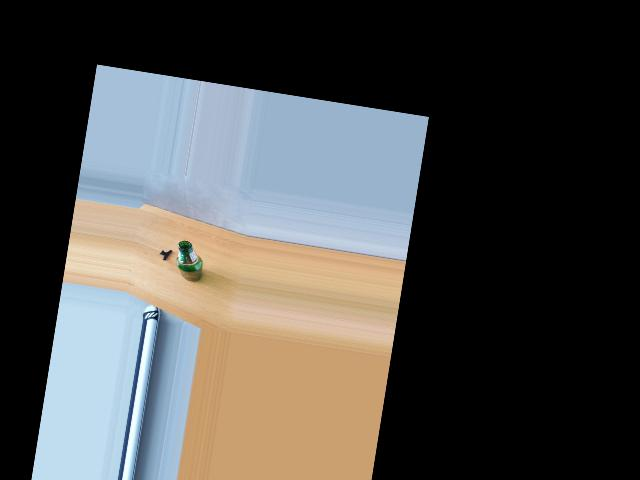beer: (172, 240, 207, 283)
